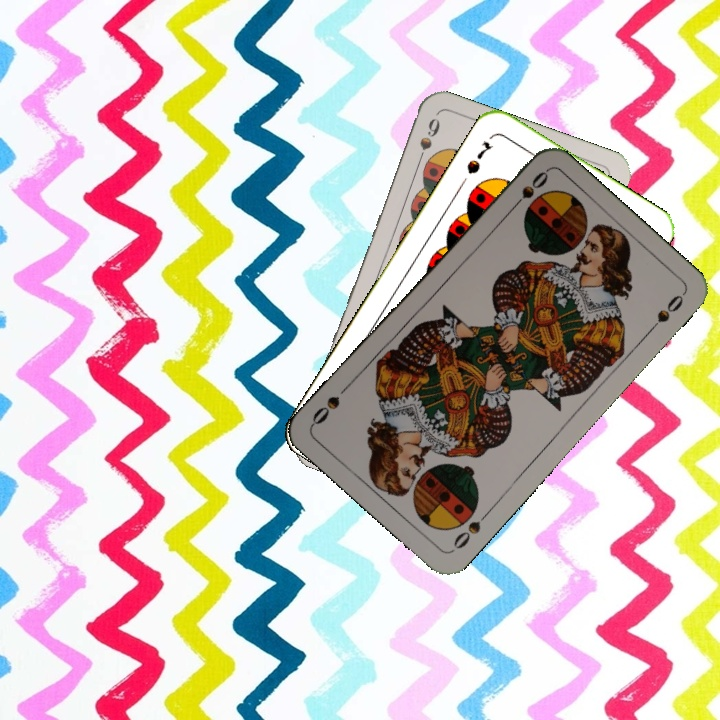S7: (462, 137, 495, 177)
S9: (412, 114, 443, 170)
SO: (505, 167, 551, 215), (449, 506, 493, 554)
